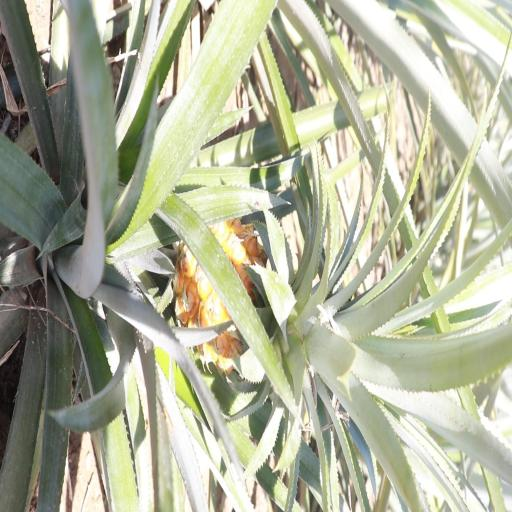Pineapple - v8 v1: (176, 216, 405, 403)
